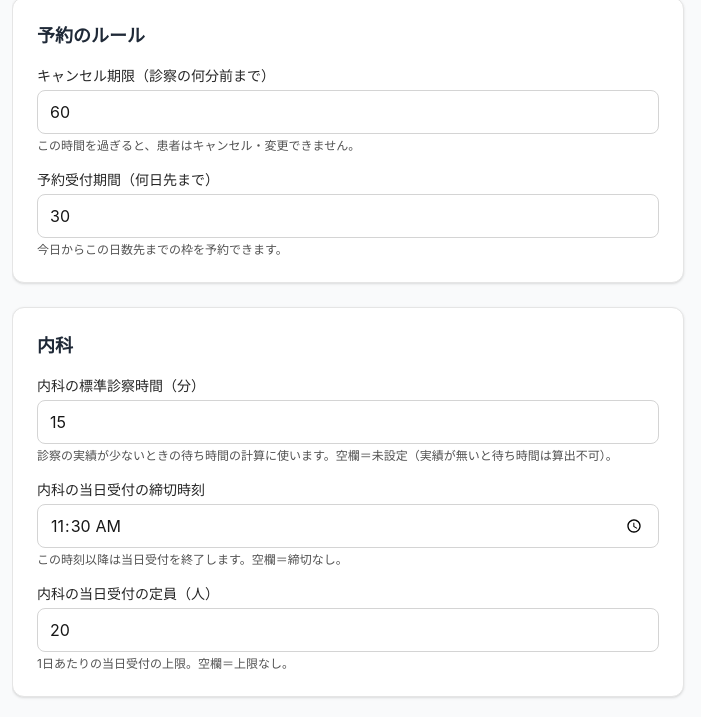
Test: SettingsForm（REQ-006-AC-2 受付期間・キャンセル期限・標準診察時間） › キャンセル期限 に -1 は範囲外
Replace the text in the number field labelled "キャンセル期限（診察の何分前まで）" with "-1" at (348, 112), box [37,90,659,134]
(page scrolled)
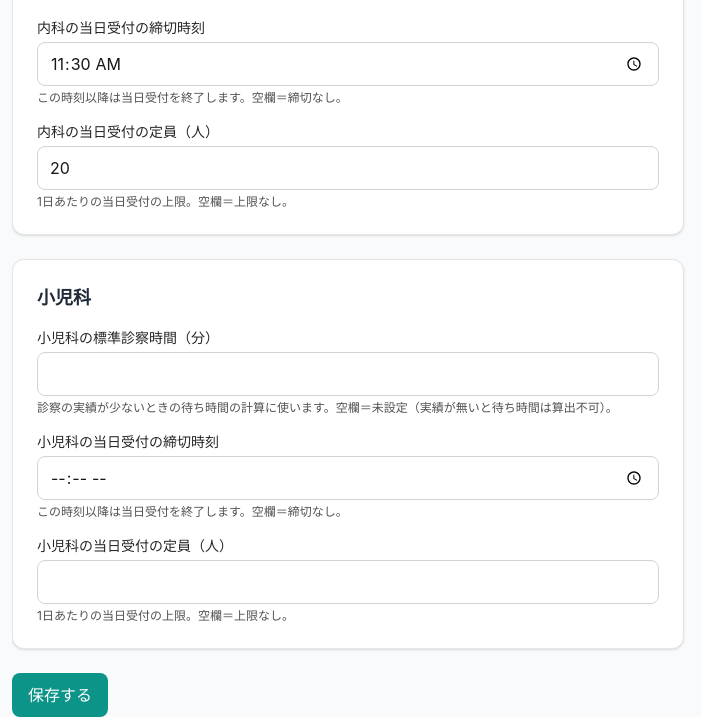
Click the button "保存する" at (60, 695), box [12,673,108,716]
(page scrolled)
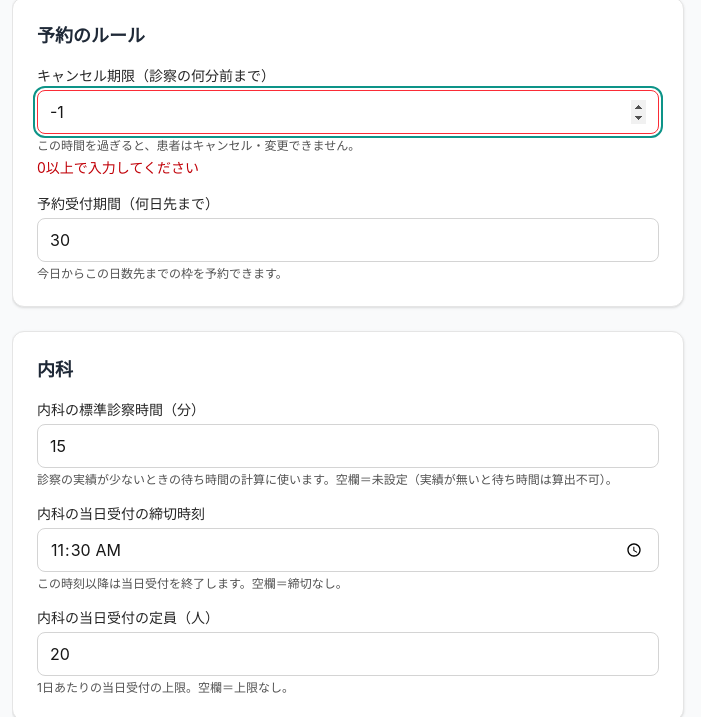
Expected: the text "0以上で入力してください" is shown, [37,159,199,176]
